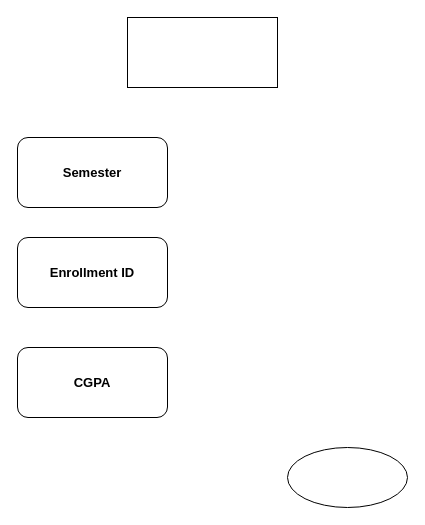
Image size: 425x525. Some labels were removed from this diagram. Here are the shapes that lost their labels. From the top down, the box of each, then its label:
(126, 16, 278, 88): Result
(286, 446, 408, 508): Download
